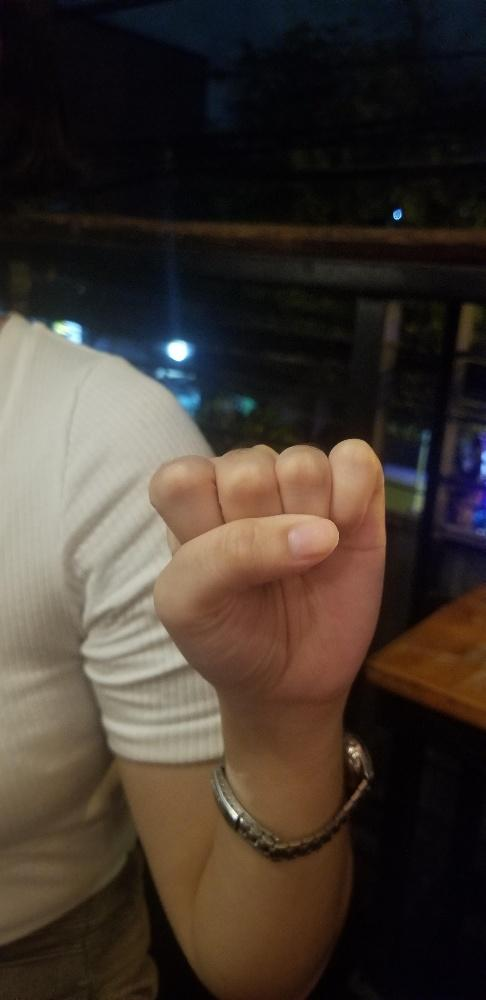s: (146, 434, 387, 688)
